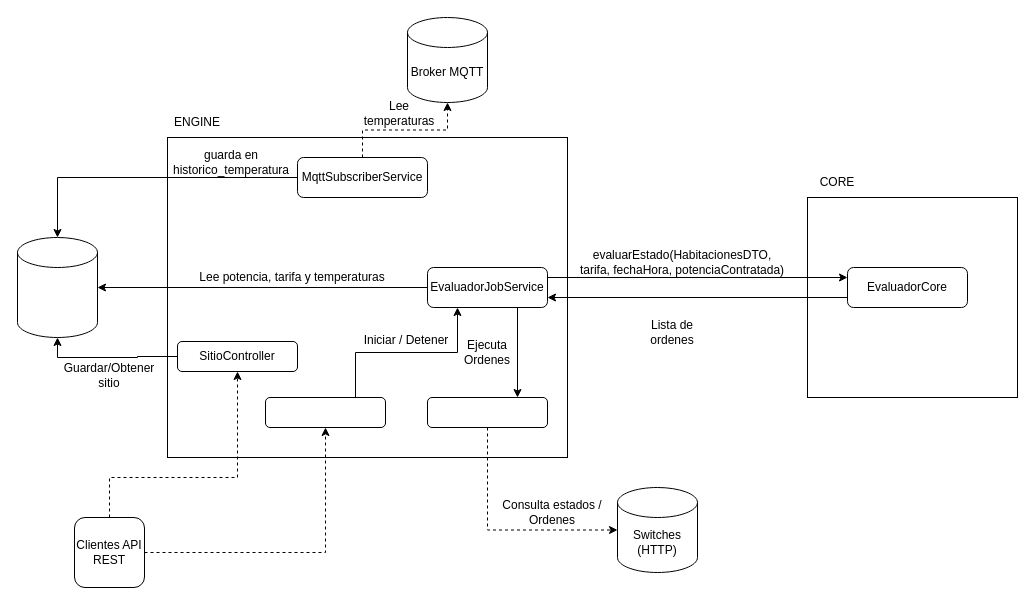
The diagram is 1035 pixels wide and 605 high, and some of its shapes have lost their labels. Here are the shapes that lost their labels. From the top down, the centre of each, then its label:
point 57,287: PostgreSQL DB
point 325,412: ControlController
point 487,412: SwitchClientService
